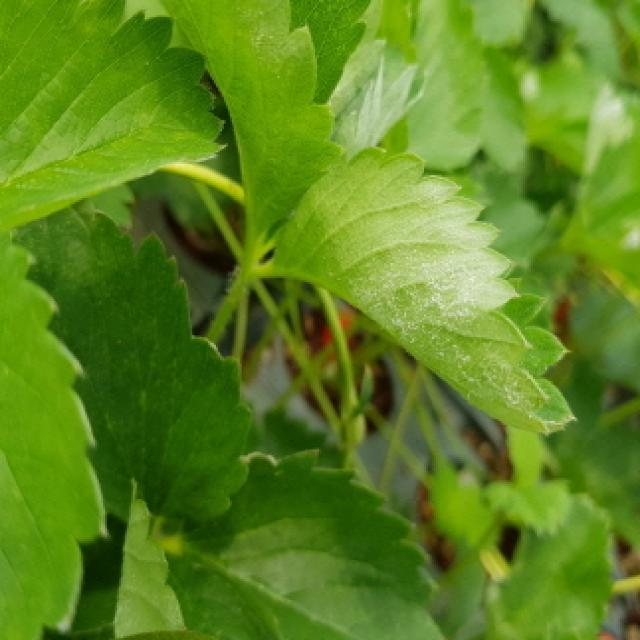Powdery Mildew Leaf: (257, 146, 579, 435), (558, 81, 640, 313)
